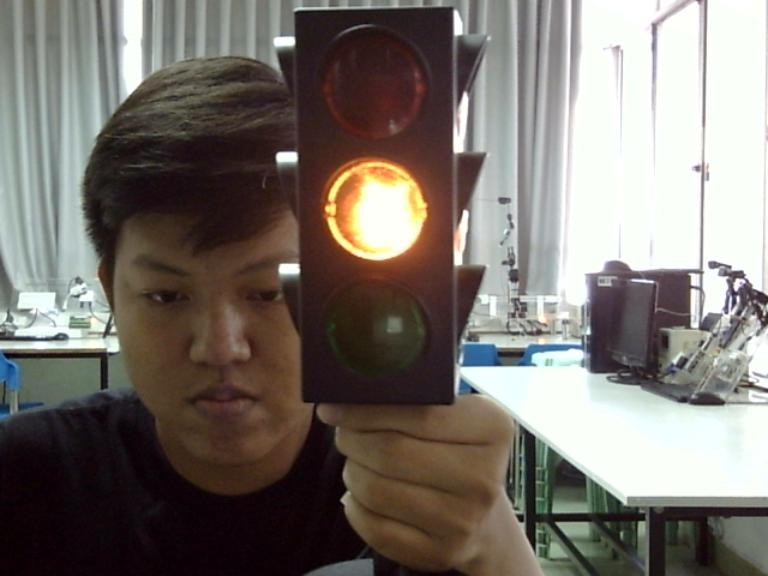yellow: (314, 148, 440, 266)
